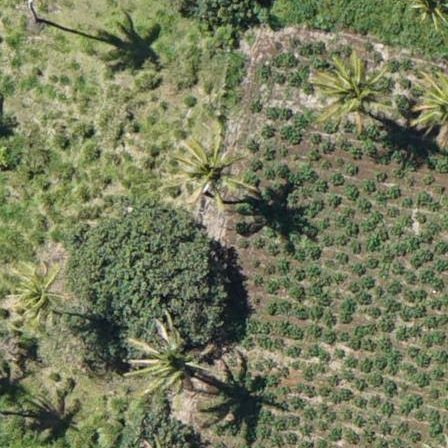palm_tree: (121, 311, 209, 405), (313, 48, 387, 127), (173, 131, 243, 206), (5, 253, 69, 321)
